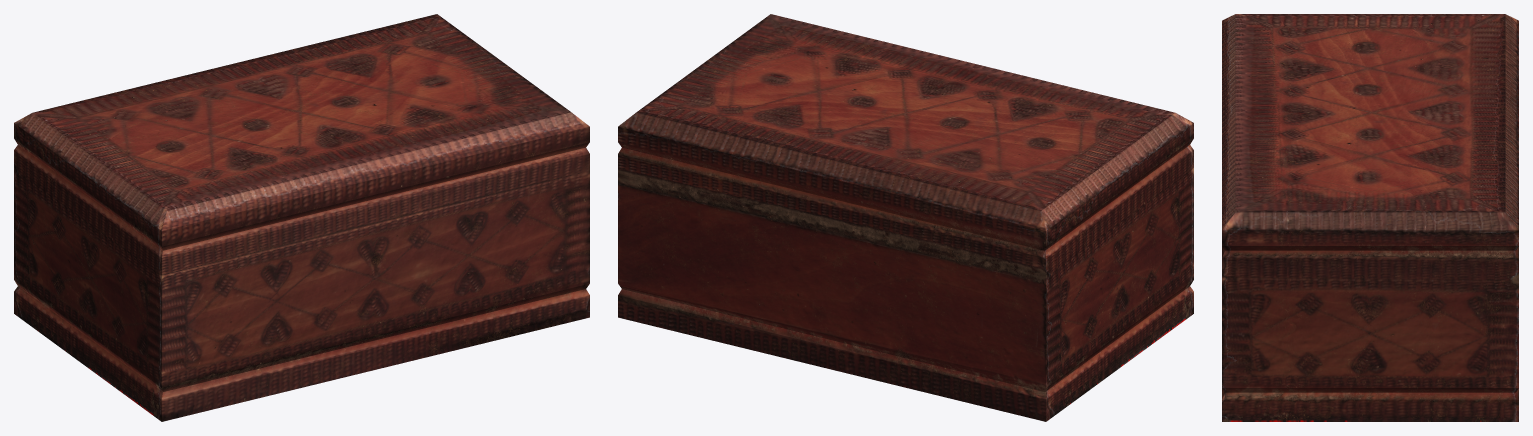
File: ottoman_4_v000.glb
The picture shows the model from 3 angles, left to right: view 1: azimuth 30°, elevation 25°; view 2: azimuth 150°, elevation 25°; view 3: azimuth 270°, elevation 25°; orthographic projection.
Parts seen in each view (by area): view 1: world; view 2: world; view 3: world.
Boxes of the visible parts, x1=… form: world: x1=14, y1=14, x2=589, y2=421; world: x1=618, y1=14, x2=1193, y2=421; world: x1=1222, y1=14, x2=1518, y2=421.
Bounding box in the file's own units: 0.1444 × 0.0655 × 0.0863.
1 material, 1 textured.
